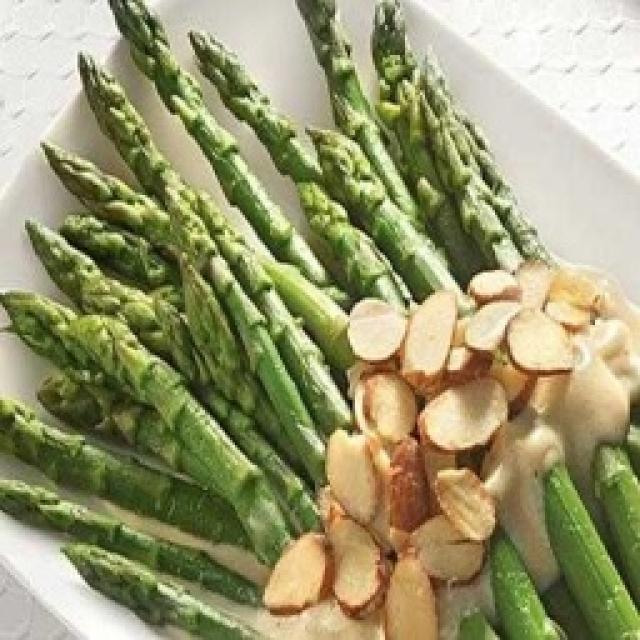Asparagus spear: (58, 57, 306, 549)
